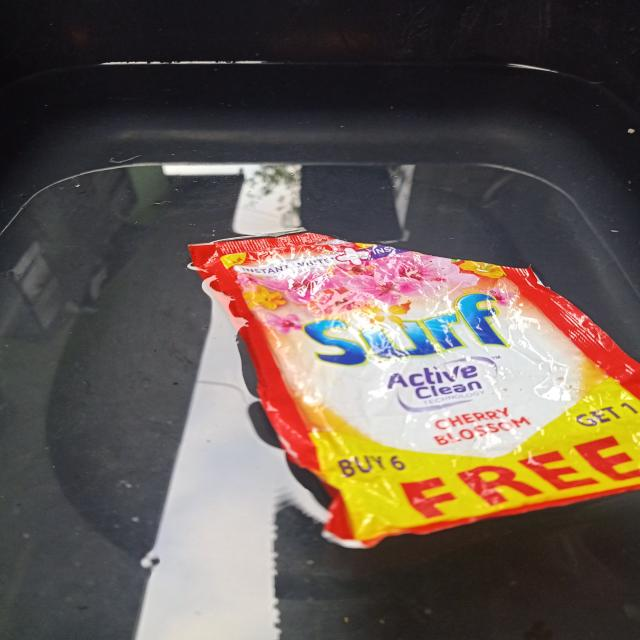Plastic Wrapper: (182, 227, 640, 552)
